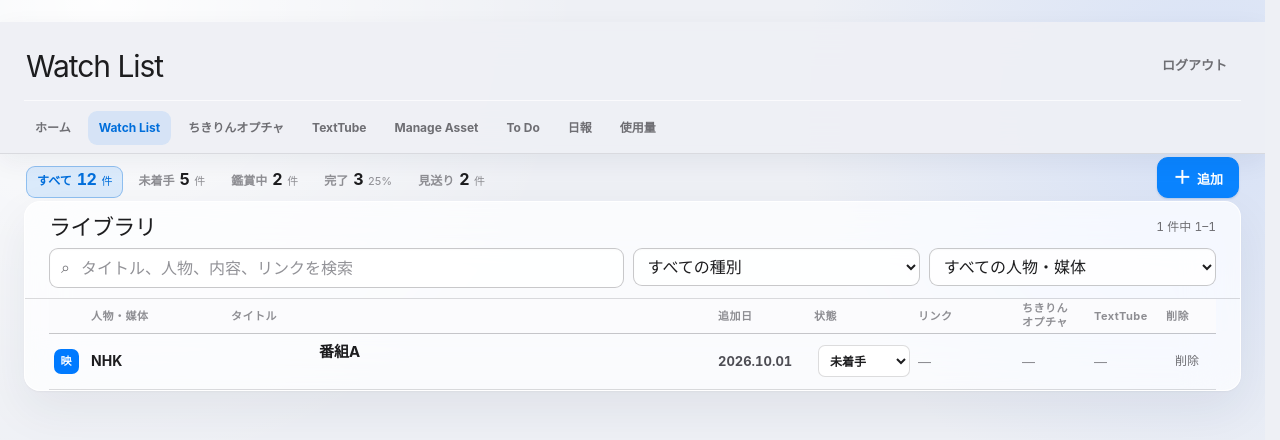
Test: the status strip shows each status's count and filters the list by the pressed one
expect the button "すべて 12 件" is shown: met, box [26,166,123,198]
expect the button "条件をクリア" is not shown: met
Click the button "完了 3 25%" at (358, 182), box [313,166,403,198]
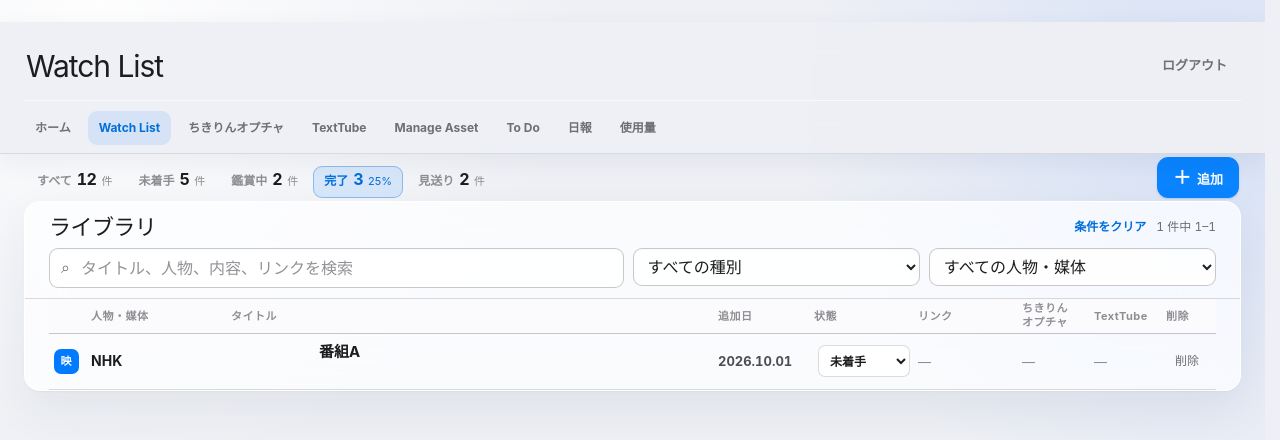
expect the button "完了 3 25%" is pressed: met, box [313,166,403,198]
Click the button "条件をクリア" at (1110, 227), box [1074,218,1146,236]
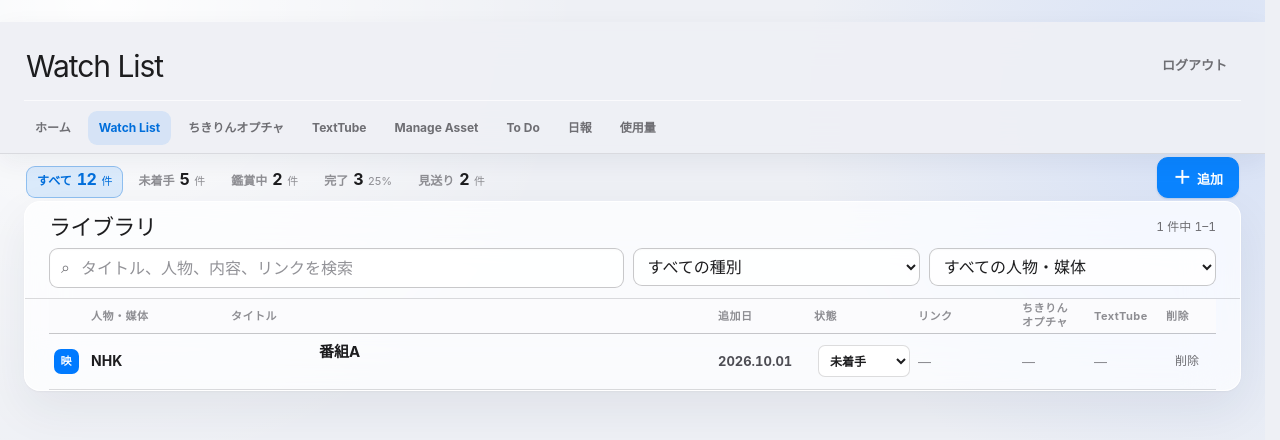
expect the button "条件をクリア" is gone: met
